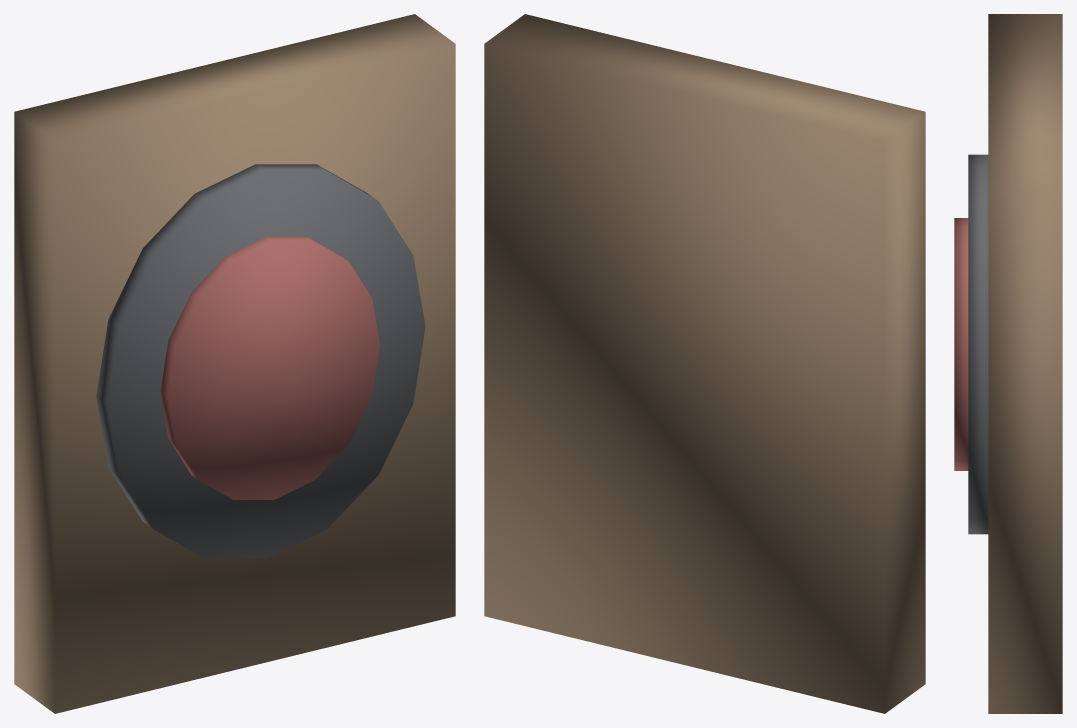
File: dartboard_cabinet__tall.glb
3 renders of one model, left to right at view 1: azimuth 30°, elevation 25°; view 2: azimuth 150°, elevation 25°; view 3: azimuth 270°, elevation 25°, orthographic. The views are drawn at different scales.
Parts seen in each view (by area): view 1: world; view 2: world; view 3: world.
Boxes of the visible parts, x1,y1,x2,y2 form: world: (14,14,455,713); world: (484,14,925,713); world: (954,14,1062,713).
Size of the model in its own units: 0.68 by 0.928 by 0.175.
